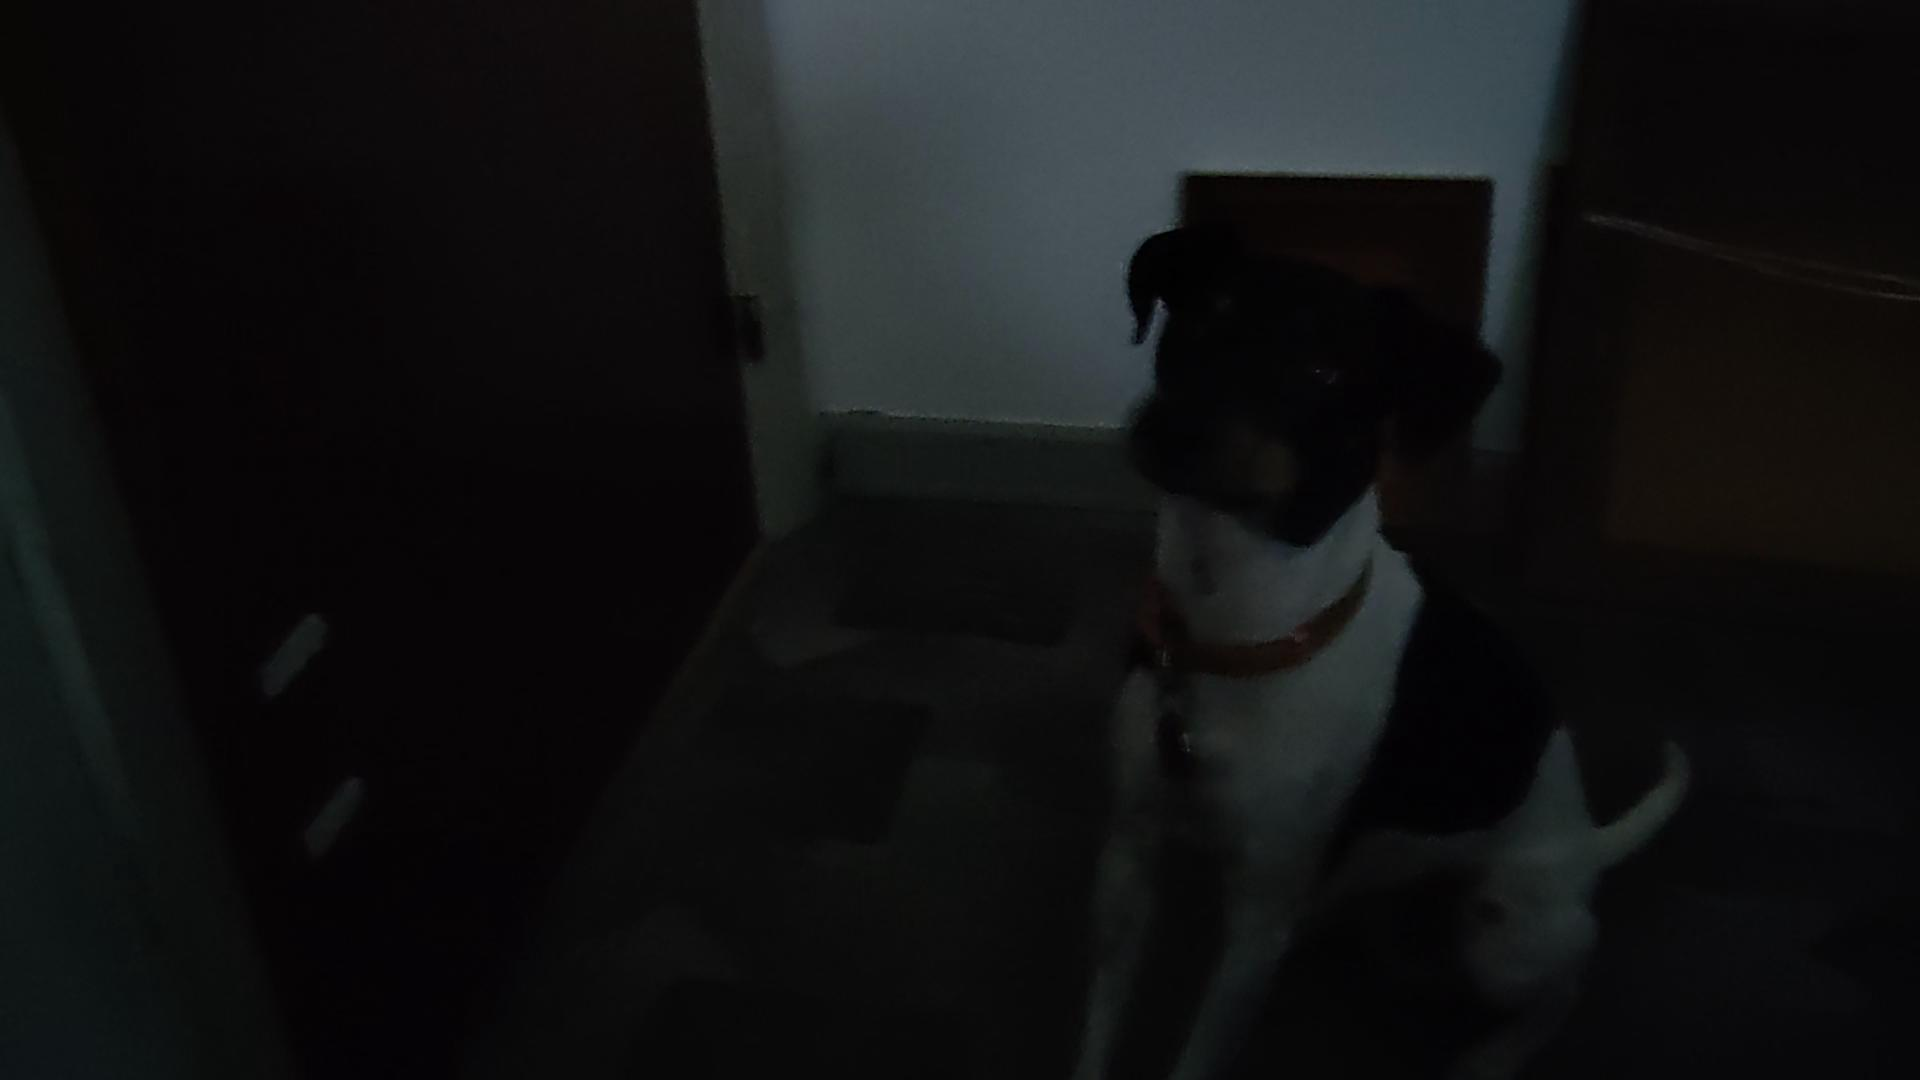Dog: (1040, 204, 1704, 1079)
